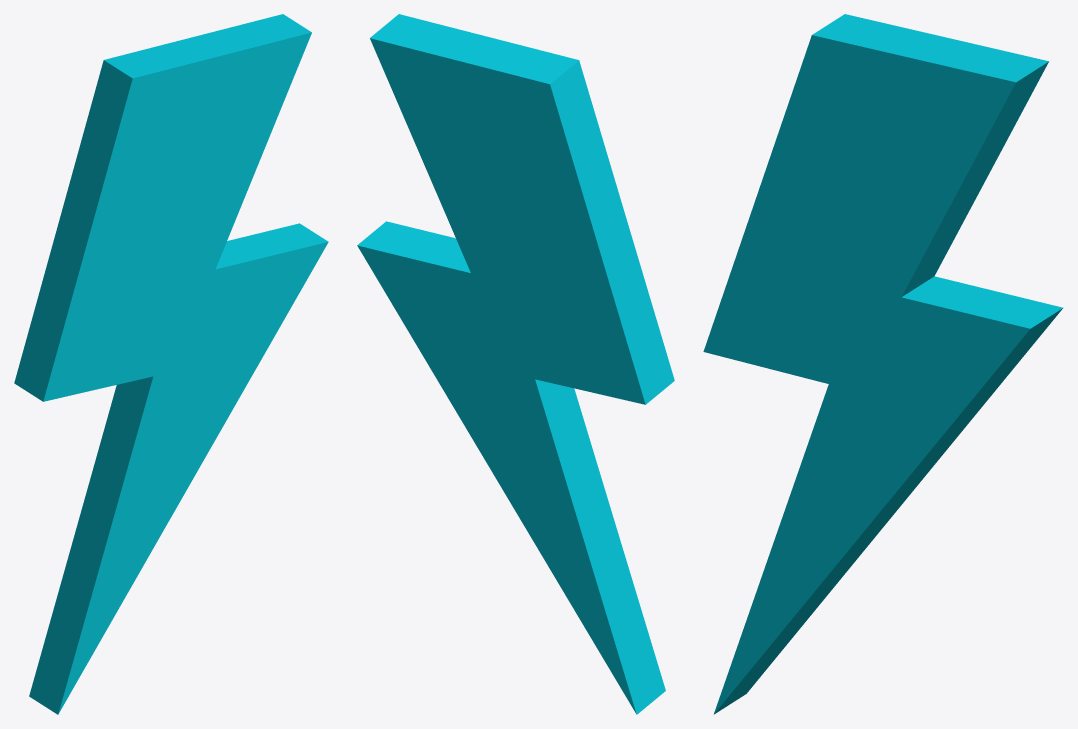
The model's file is lazerPowerUp.fbx.
3 views of the same model, side by side, from view 1: azimuth 30°, elevation 25°; view 2: azimuth 150°, elevation 25°; view 3: azimuth 330°, elevation 25° (orthographic). The views are drawn at different scales.
Parts seen in each view (by area): view 1: Plane; view 2: Plane; view 3: Plane.
Part boxes in pixels (box(x1,y1,x2,y2)): Plane: box(14, 14, 328, 714); Plane: box(357, 14, 674, 714); Plane: box(703, 14, 1063, 714).
Size of the model in its own units: 162 by 333 by 34.2.
